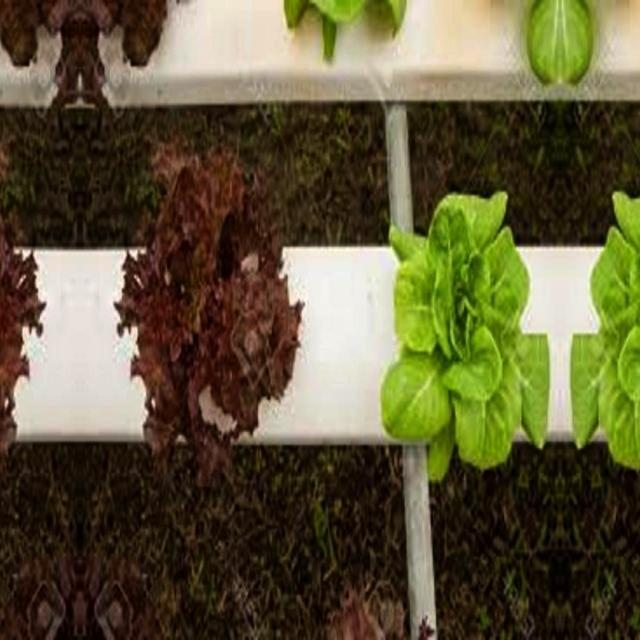healthy: (380, 178, 548, 480), (572, 178, 640, 480)
